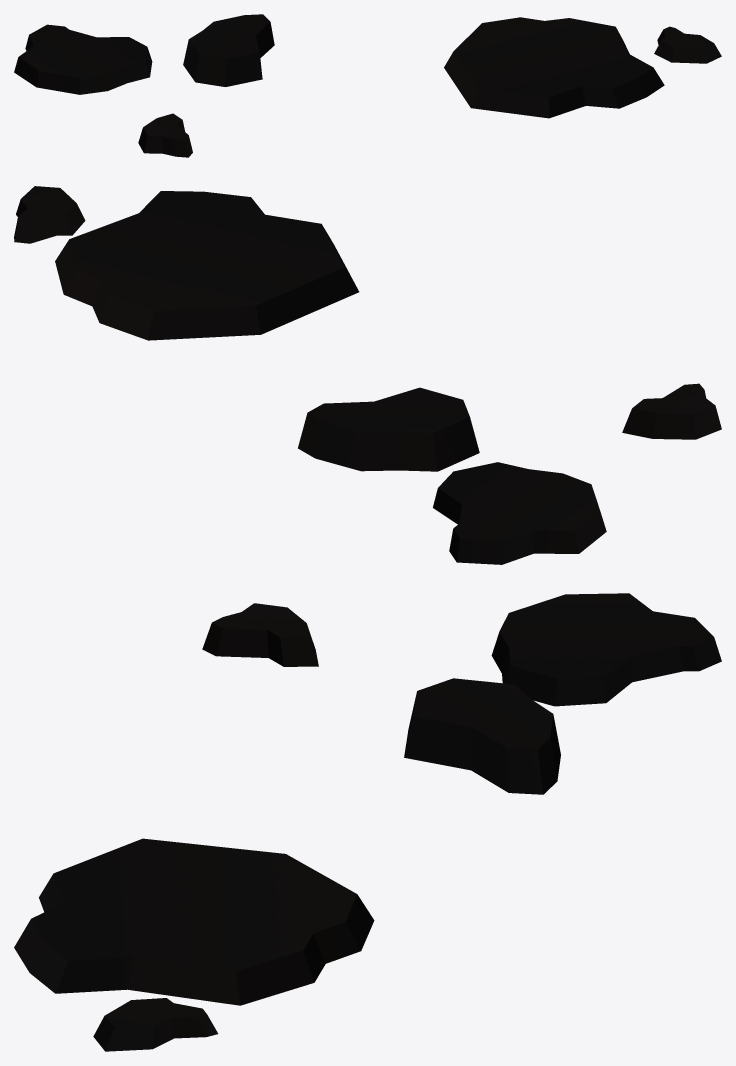
File: SM_Env_Highway_Rubble_04.fbx
3 views of the same model, one above another, from view 1: azimuth 30°, elevation 25°; view 2: azimuth 150°, elevation 25°; view 3: azimuth 270°, elevation 25° (orthographic). The views are drawn at different scales.
Parts seen in each view (by area): view 1: SM_Env_Highway_Rubble_04; view 2: SM_Env_Highway_Rubble_04; view 3: SM_Env_Highway_Rubble_04.
Boxes of the visible parts, left/top/right/bottom form: SM_Env_Highway_Rubble_04: left=14, top=14, right=721, bottom=157; SM_Env_Highway_Rubble_04: left=14, top=186, right=721, bottom=564; SM_Env_Highway_Rubble_04: left=14, top=593, right=721, bottom=1051.
Bounding box in the file's own units: 927 × 40.82 × 635.
